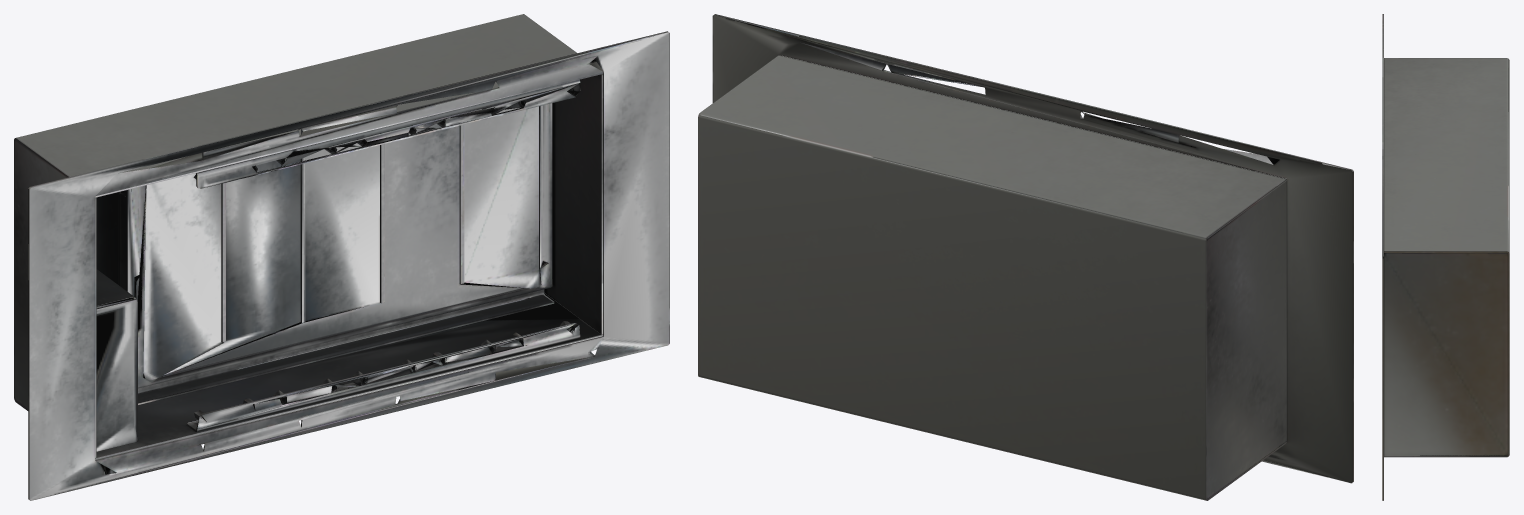
Rendered from battery_pack.obj.
The picture shows the model from 3 angles, left to right: view 1: azimuth 30°, elevation 25°; view 2: azimuth 150°, elevation 25°; view 3: azimuth 270°, elevation 25°; orthographic projection. The views are drawn at different scales.
Visible parts, largest first — view 1: battery_pack; view 2: battery_pack; view 3: battery_pack.
Boxes of the visible parts, bbox=[...] form: battery_pack: bbox=[14, 14, 669, 500]; battery_pack: bbox=[698, 14, 1353, 500]; battery_pack: bbox=[1382, 14, 1509, 500].
Bounding box in the file's own units: 0.92 × 0.43 × 0.203.
Materials: 1 (1 with a texture image).
